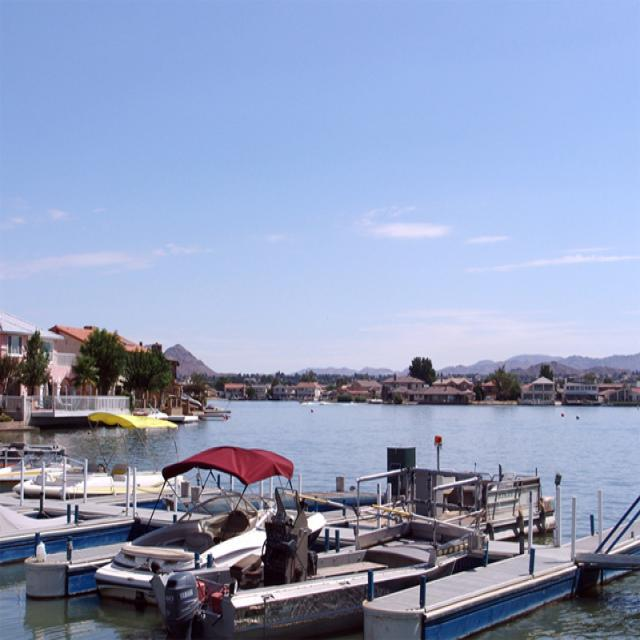houseboat: (120, 493, 306, 590), (44, 527, 138, 603)
